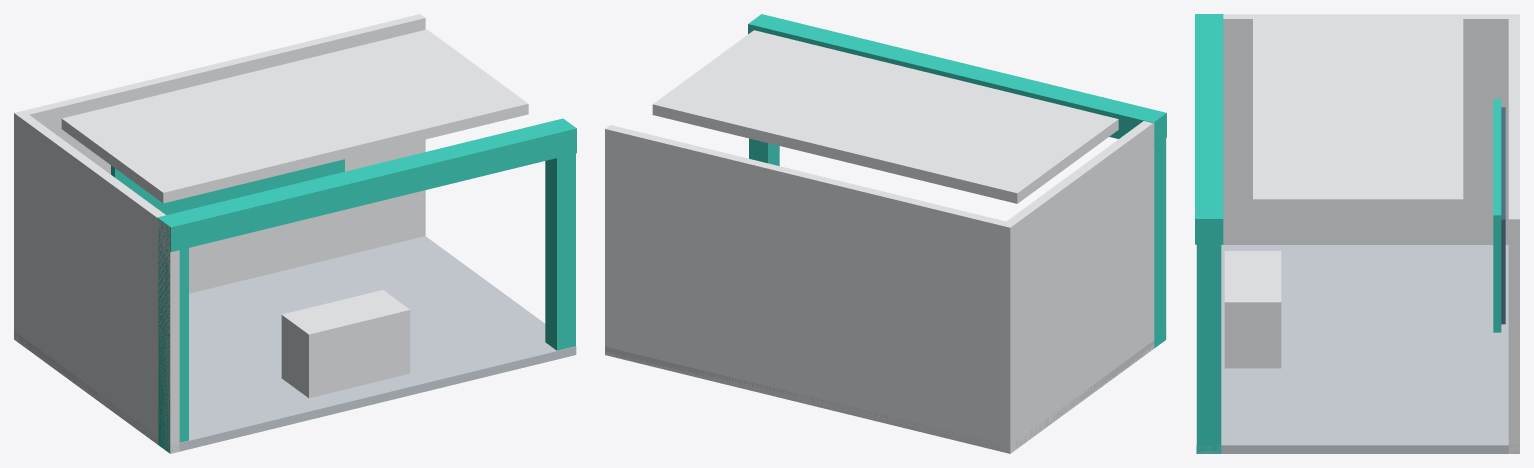
3 views of the same model, side by side, from view 1: azimuth 30°, elevation 25°; view 2: azimuth 150°, elevation 25°; view 3: azimuth 270°, elevation 25° (orthographic). The views are drawn at different scales.
Parts seen in each view (by area): view 1: Exhibition Booth Concept; view 2: Exhibition Booth Concept; view 3: Exhibition Booth Concept.
Boxes of the visible parts, <box> form: Exhibition Booth Concept: <box>14,14,576,453</box>; Exhibition Booth Concept: <box>605,14,1166,453</box>; Exhibition Booth Concept: <box>1195,14,1519,453</box>.
Size of the model in its own units: 6 by 3.34 by 4.02.
